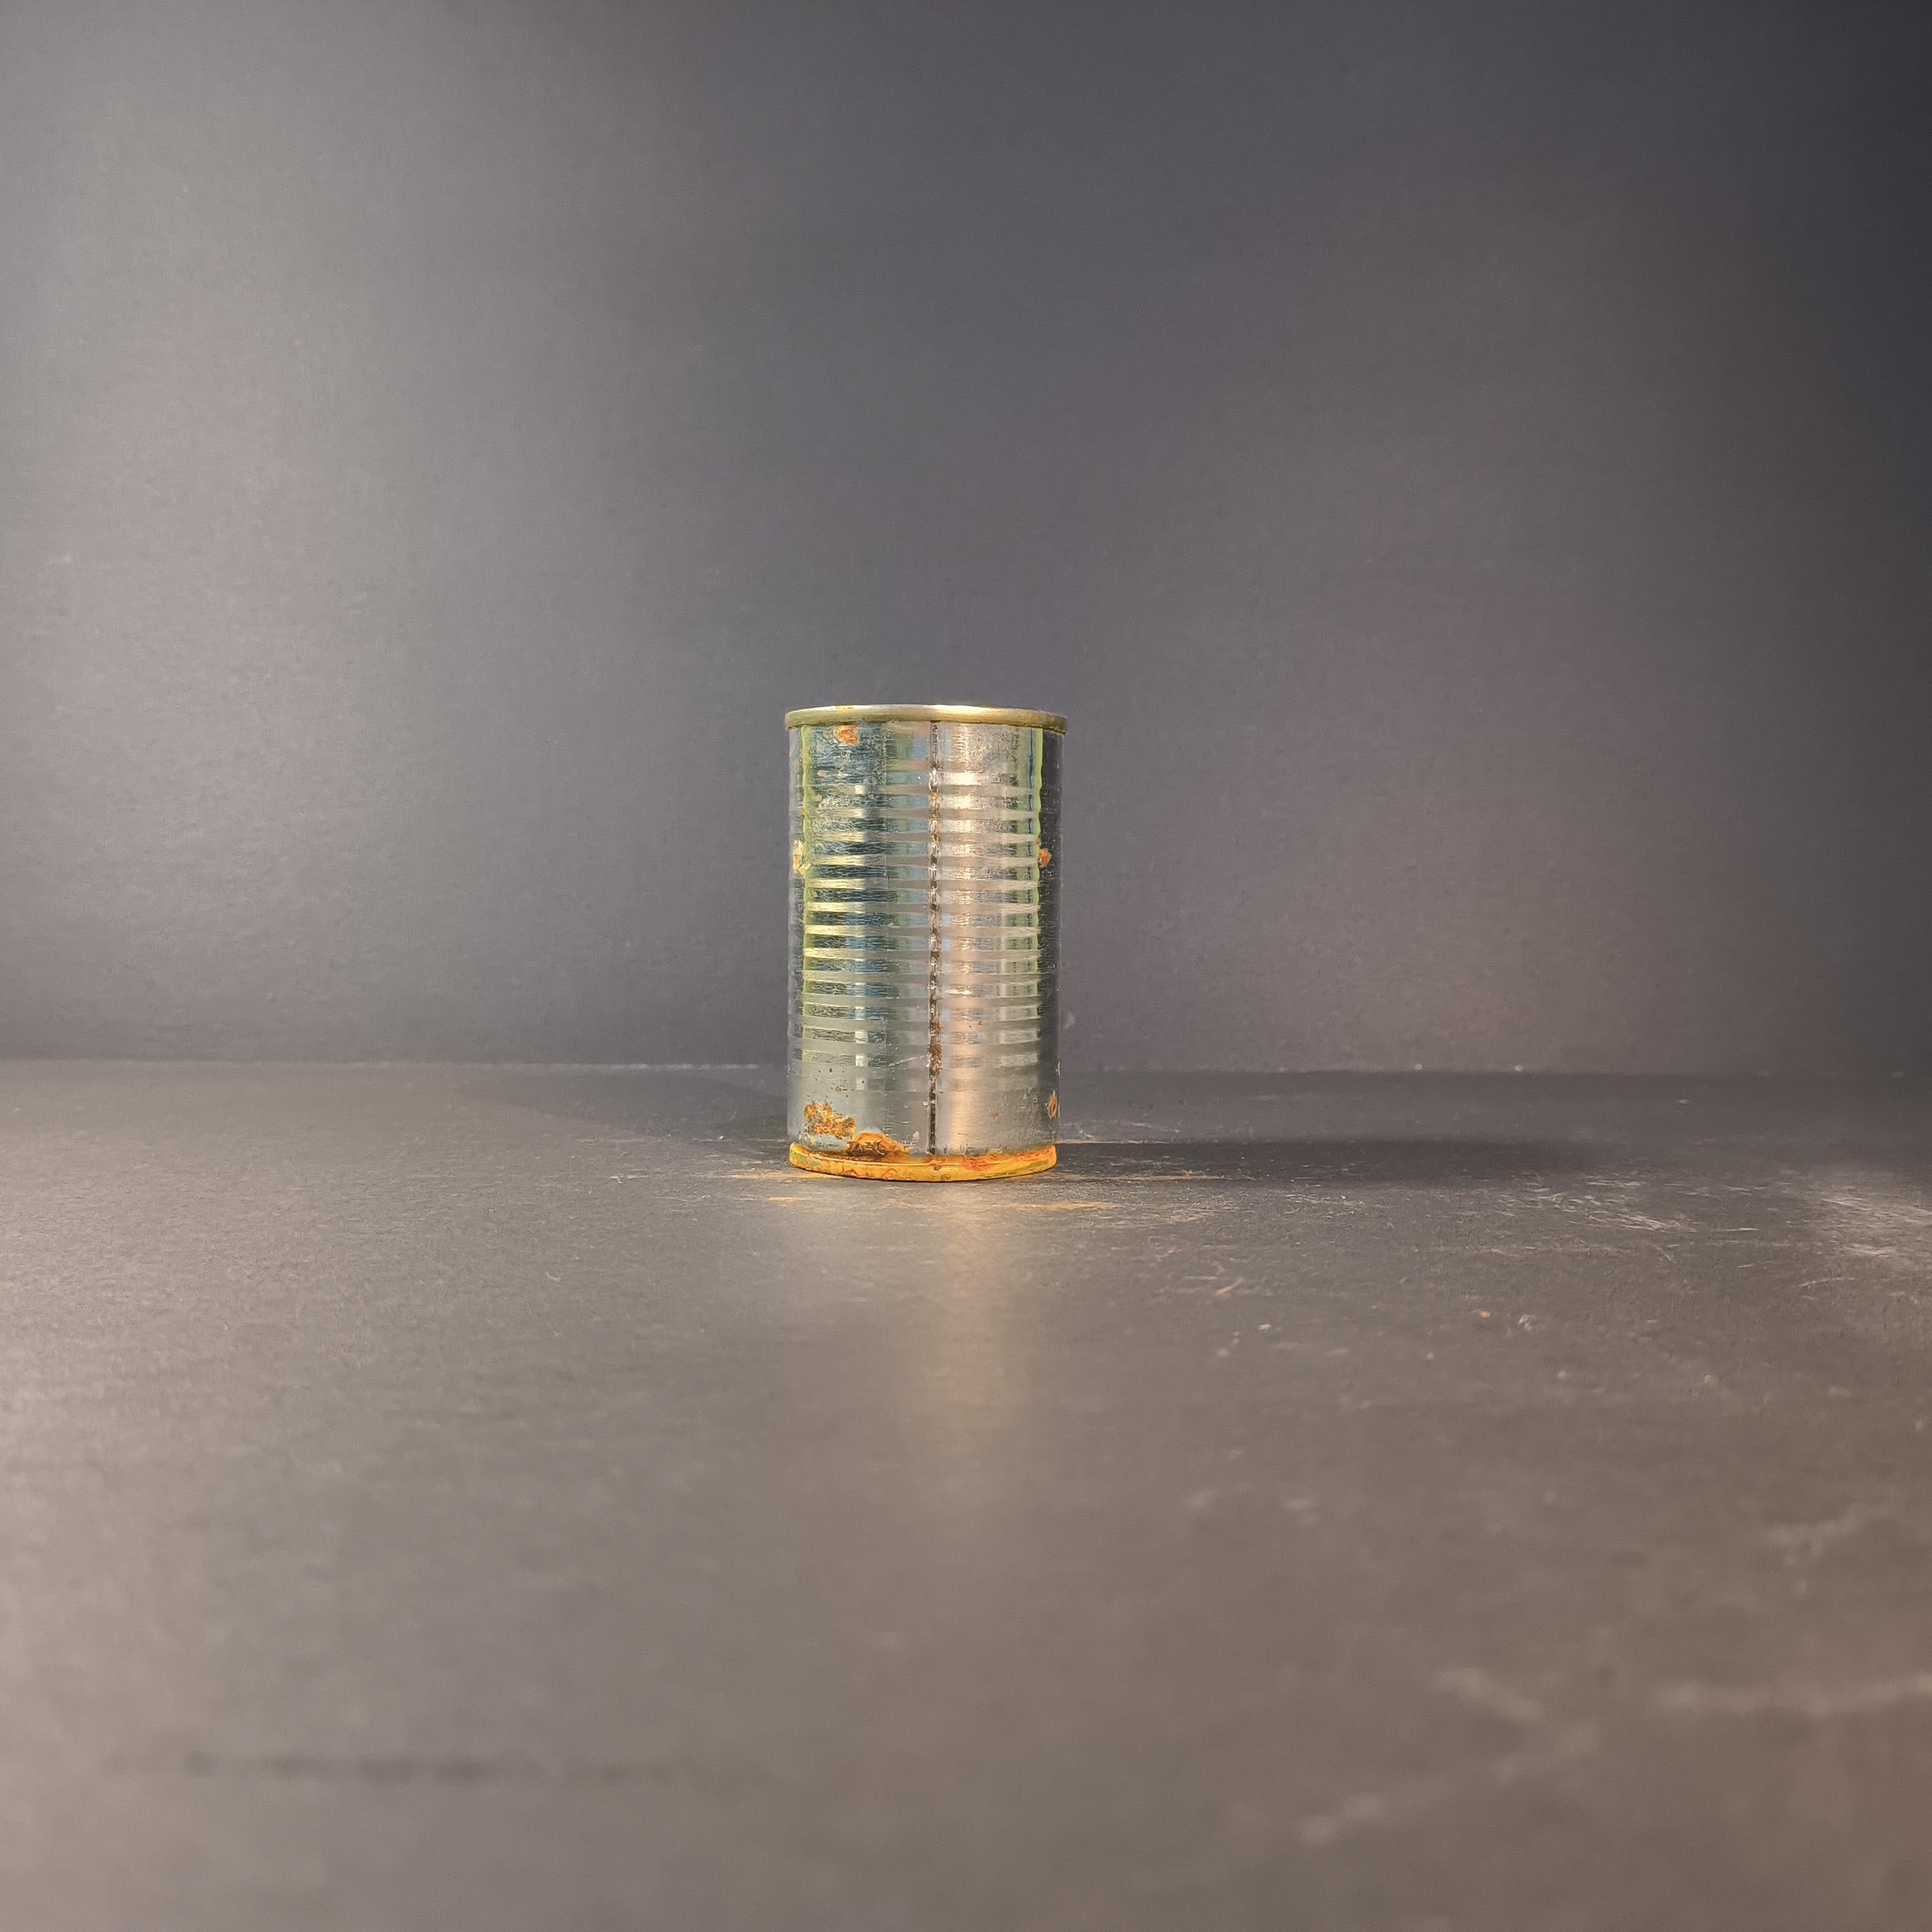Rusted: (760, 673, 1093, 1191)
